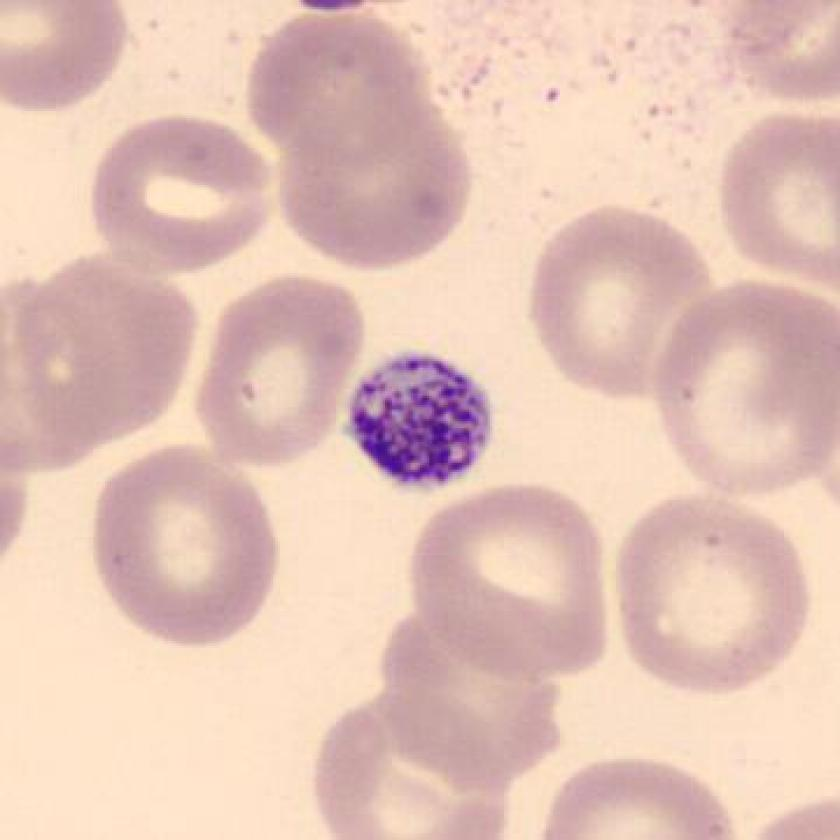platelets: (342, 346, 507, 496)
